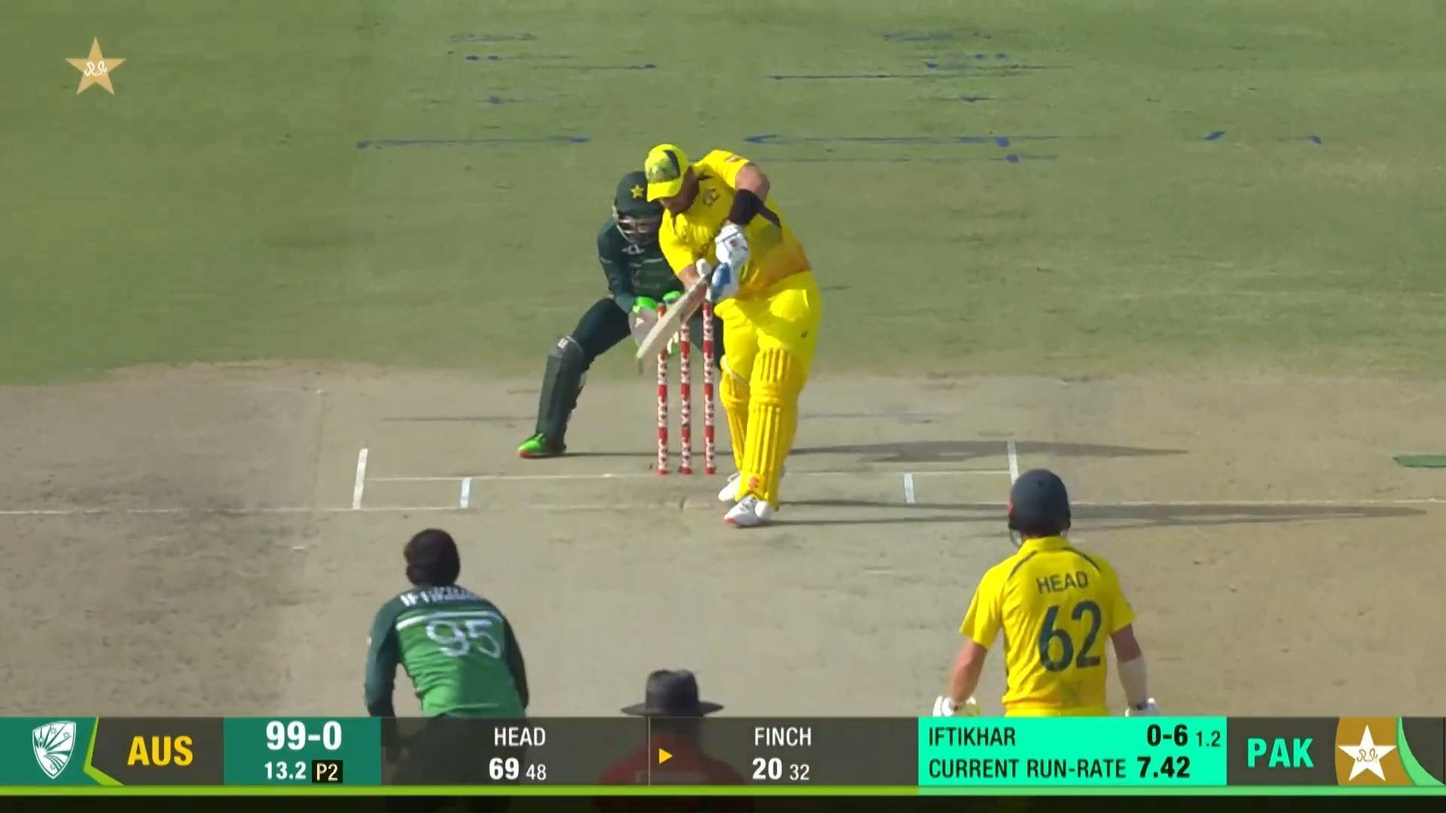BM 1: (635, 143, 823, 527)
BO: (359, 525, 532, 716)
